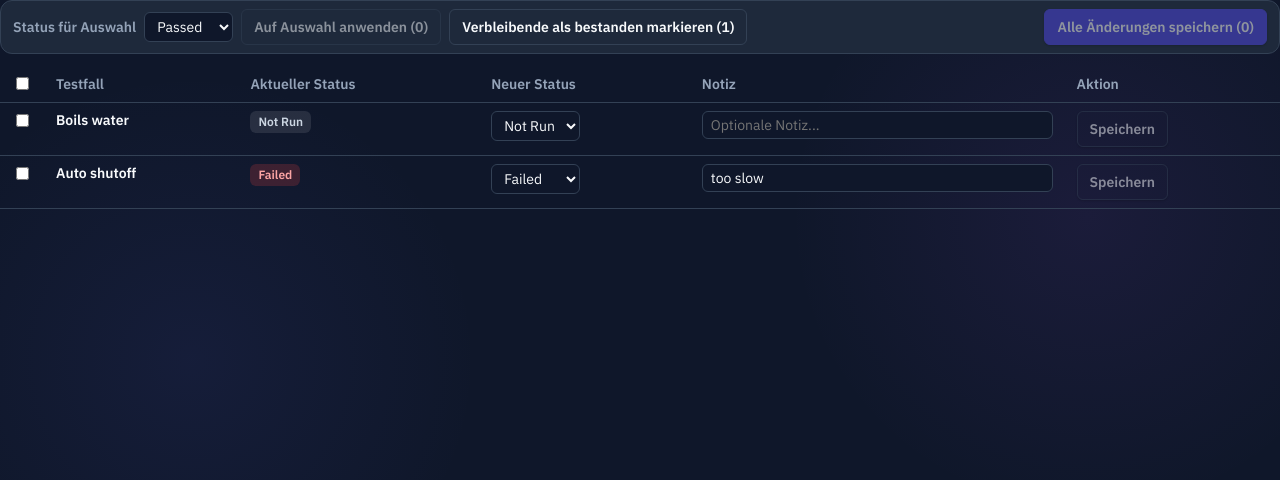
Test: TestRunResultEntryGrid (UI-04) › marks only the still-unreported rows as passed
Click the button with test id "testrun-results-mark-remaining-passed".
click(598, 27)  # box x1=449 y1=9 x2=747 y2=45
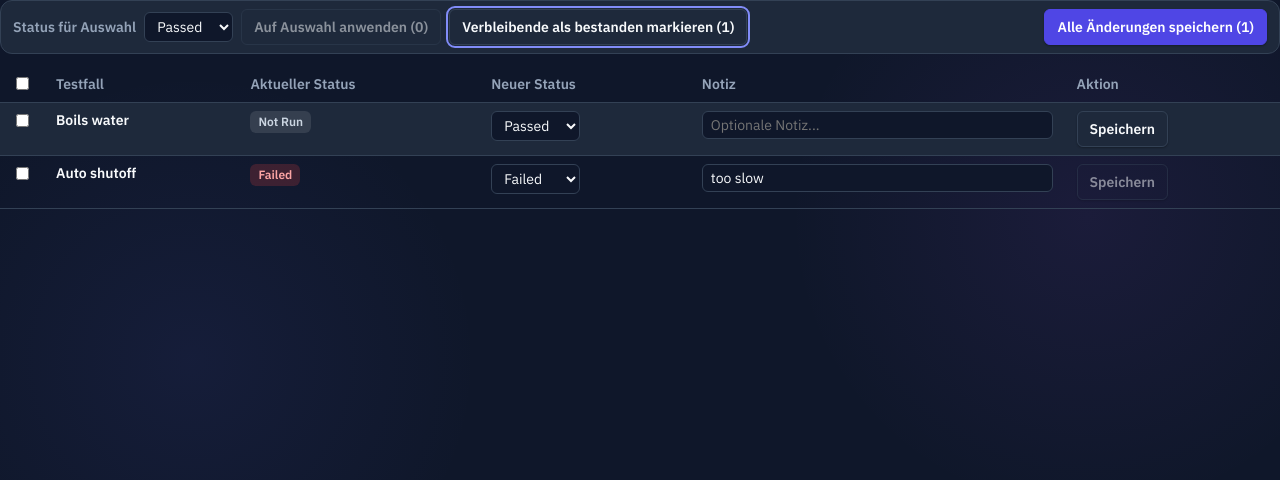
Check: the dropdown with test id "testrun-result-status-select-res-2" shows "Failed", box x1=491 y1=164 x2=580 y2=194
Check: the dropdown with test id "testrun-result-status-select-res-1" shows "Passed", box x1=491 y1=111 x2=580 y2=141
